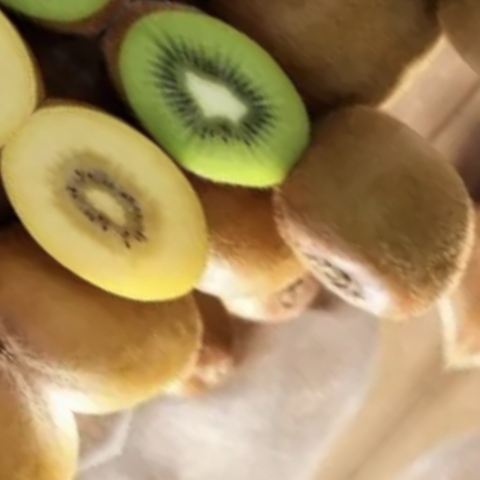kiwi: (0, 130, 268, 479), (236, 73, 480, 366)
